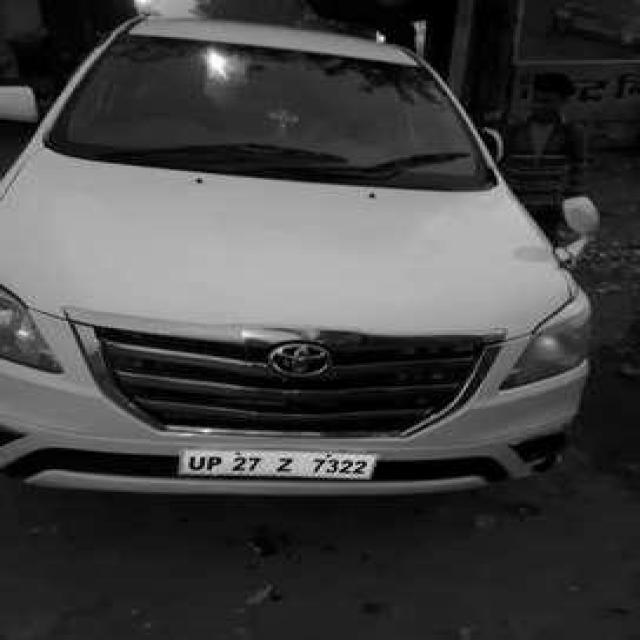car: (0, 12, 614, 532)
license-plate: (181, 444, 379, 482)
